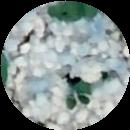Basil: (45, 3, 83, 18)
